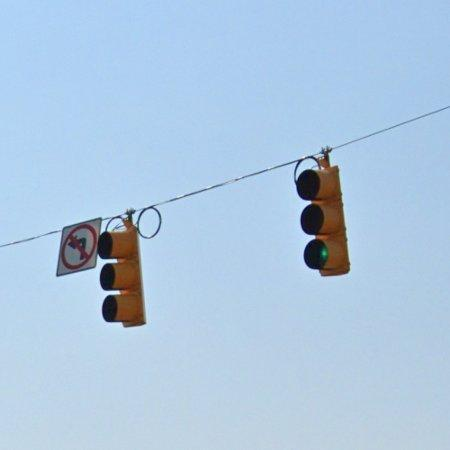traffic lights: (295, 154, 352, 280), (96, 220, 147, 333)
